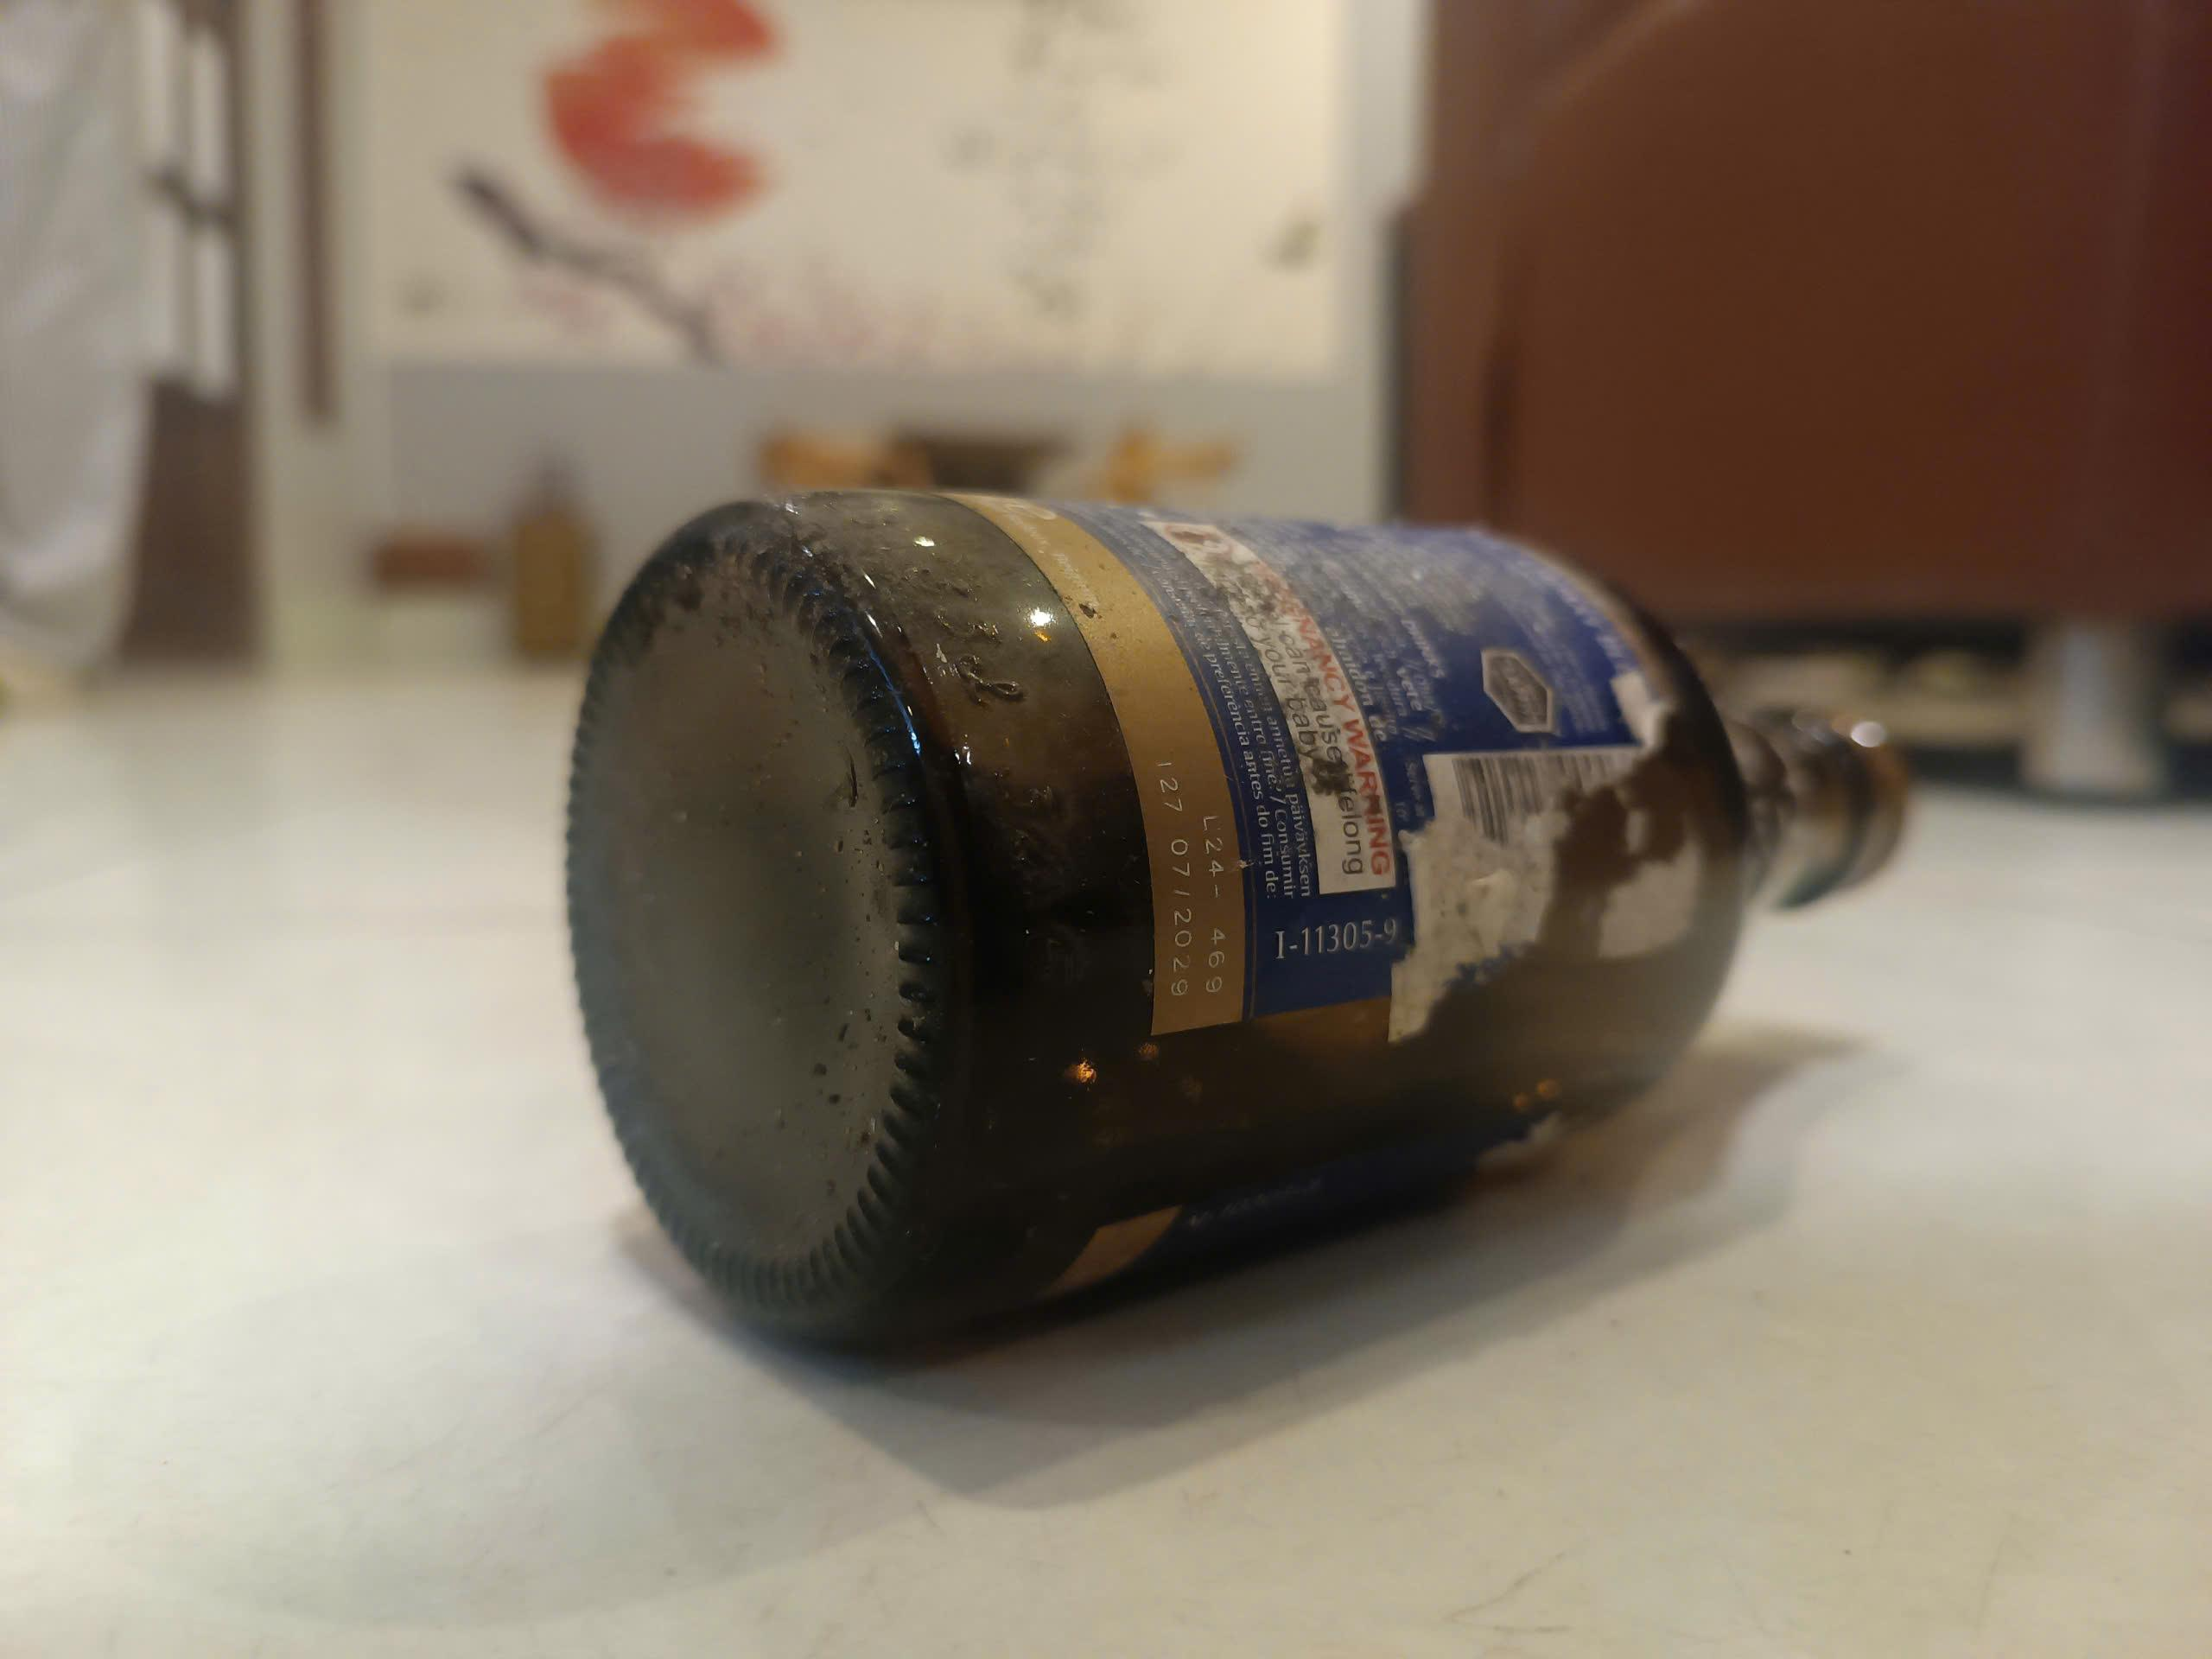Vo co: (568, 499, 1905, 1331)
